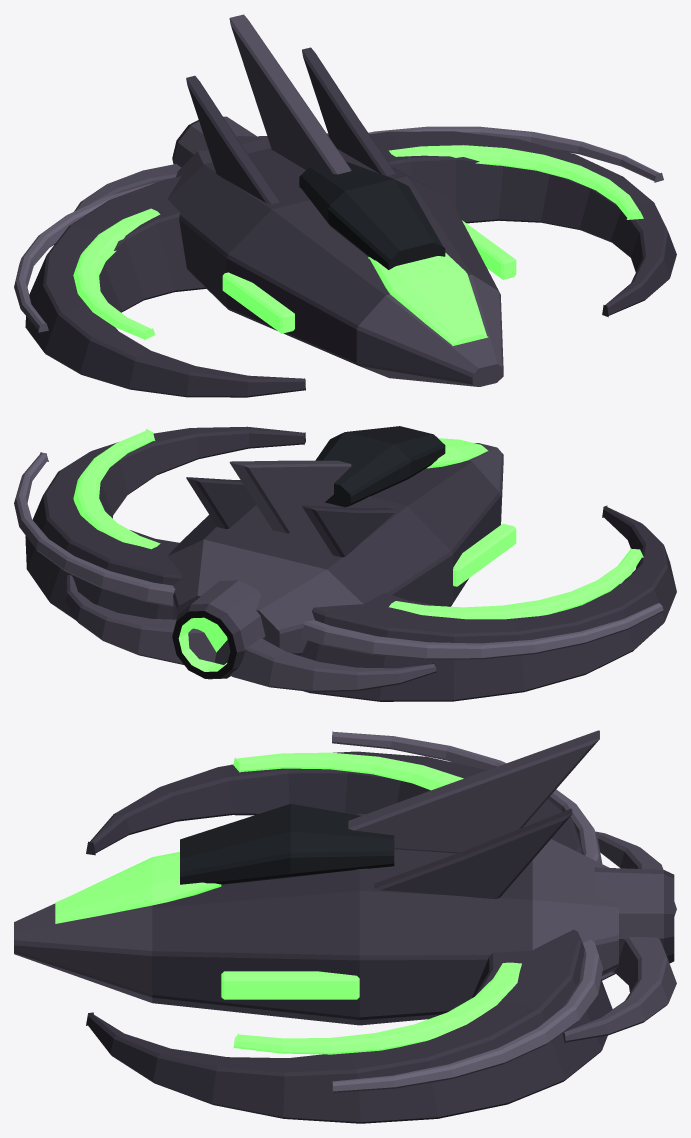
Rendered from alien-claw.glb.
3 renders of one model, top to bottom at view 1: azimuth 30°, elevation 25°; view 2: azimuth 150°, elevation 25°; view 3: azimuth 270°, elevation 25°, orthographic. The views are drawn at different scales.
Visible parts, largest first — view 1: Alien2; view 2: Alien2; view 3: Alien2.
Boxes of the visible parts, x1=… form: Alien2: x1=14, y1=14, x2=676, y2=397; Alien2: x1=14, y1=426, x2=676, y2=701; Alien2: x1=14, y1=730, x2=676, y2=1123.
Bounding box in the file's own units: 2.43 × 0.8171 × 1.92.
